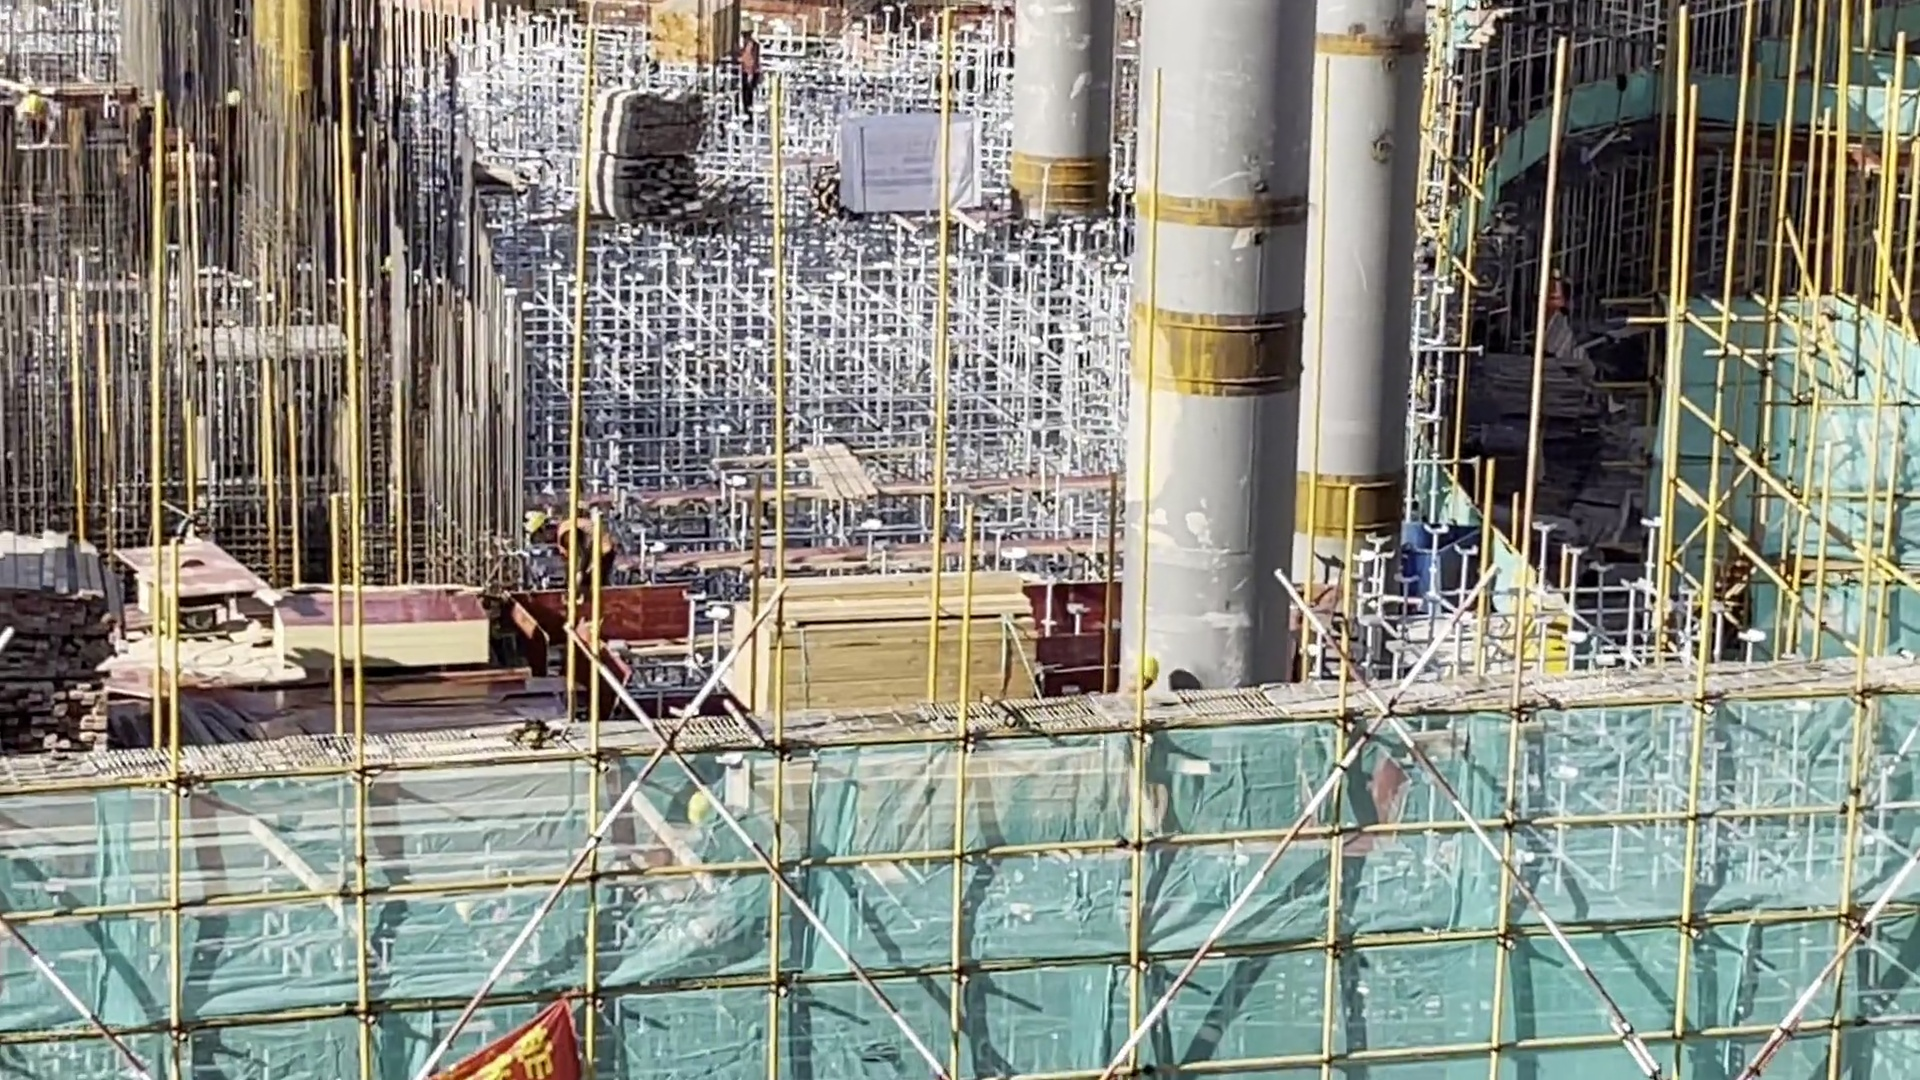helmet: (521, 505, 554, 539)
person: (514, 501, 638, 626)
wood: (717, 572, 1044, 742), (3, 516, 149, 752)
